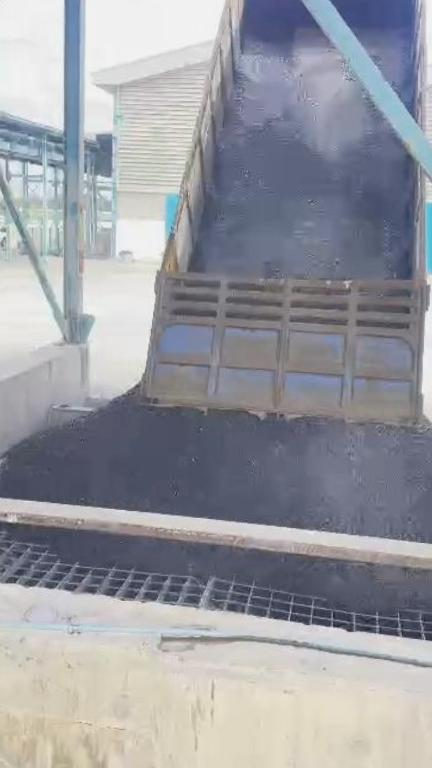gravel: (0, 392, 432, 544), (18, 528, 432, 609)
